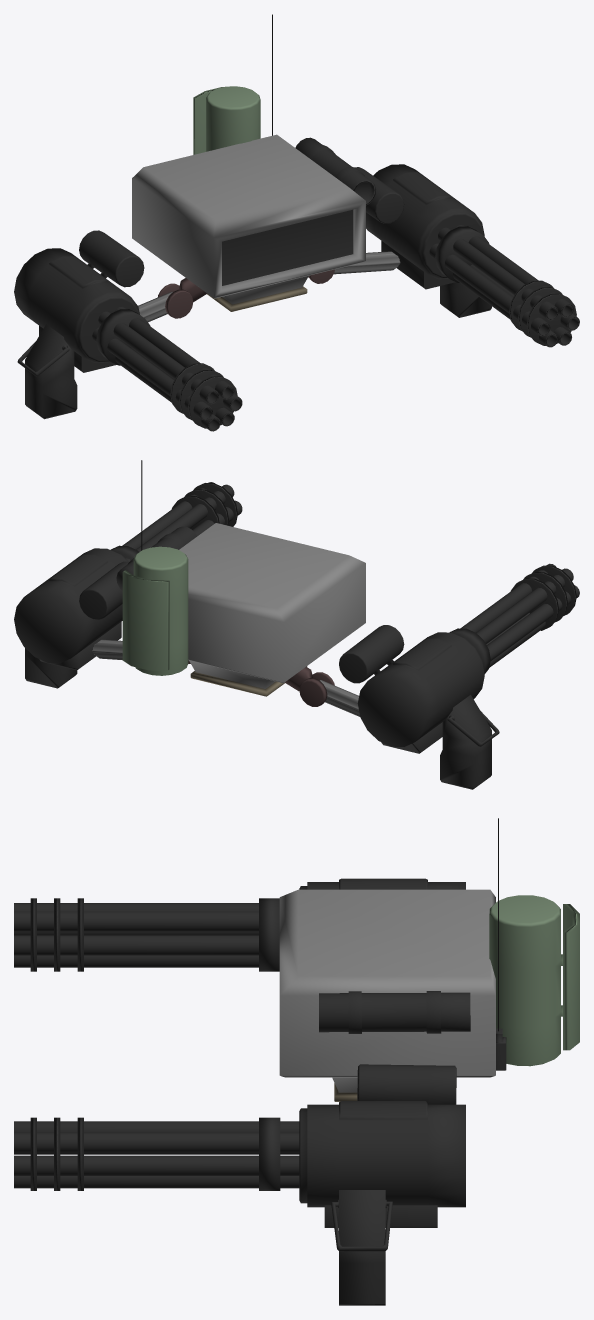
The model's file is enemy3_gray.fbx.
3 renders of one model, top to bottom at view 1: azimuth 30°, elevation 25°; view 2: azimuth 150°, elevation 25°; view 3: azimuth 270°, elevation 25°, orthographic. The views are drawn at different scales.
Parts seen in each view (by area): view 1: P_enemy3_gray; view 2: P_enemy3_gray; view 3: P_enemy3_gray.
Boxes of the visible parts, x1,y1,x2,y2 form: P_enemy3_gray: (14,14,579,431); P_enemy3_gray: (14,460,579,789); P_enemy3_gray: (14,818,579,1305).
Size of the model in its own units: 48.41 by 28.89 by 38.48.
Materials: 1 (1 with a texture image).
